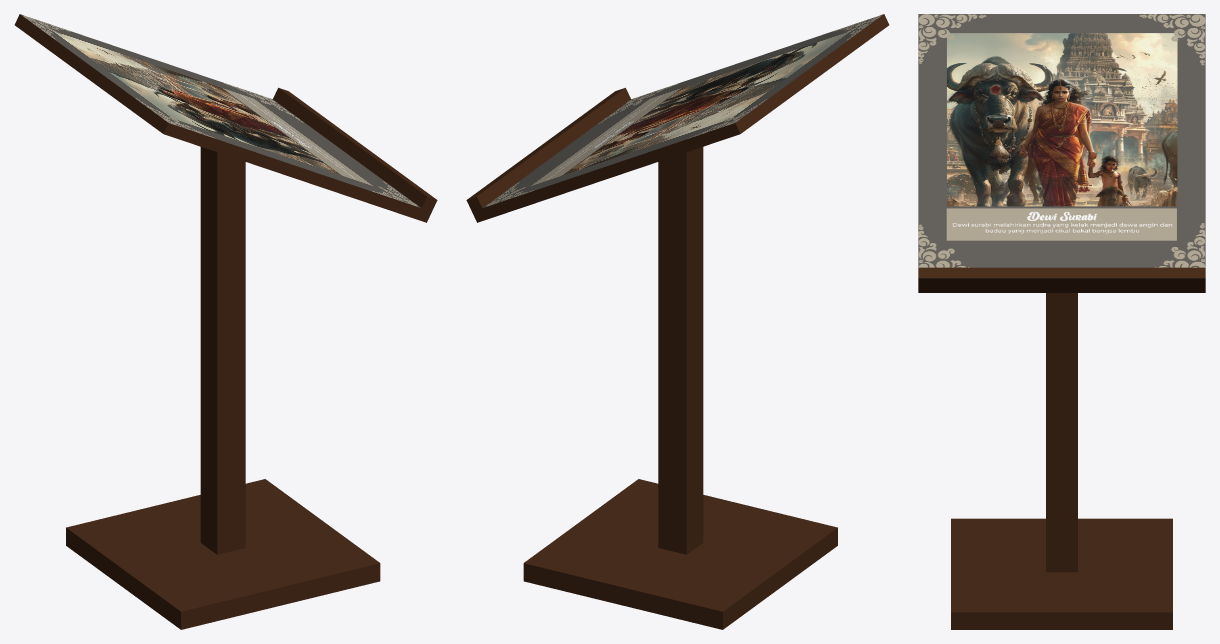
Rendered from Dewi Surabi.glb.
3 renders of one model, left to right at view 1: azimuth 30°, elevation 25°; view 2: azimuth 150°, elevation 25°; view 3: azimuth 270°, elevation 25°, orthographic. The views are drawn at different scales.
Visible parts, largest first — view 1: Cube.001, Cube.002, Cube; view 2: Cube.001, Cube.002, Cube; view 3: Cube.002, Cube.001, Cube.
Part boxes in pixels (x1,y1,x2,y2): Cube.001: (66,479,380,629); Cube.002: (14,14,437,222); Cube: (200,147,245,554); Cube.001: (523,479,837,629); Cube.002: (466,14,889,222); Cube: (658,147,703,554); Cube.002: (918,14,1205,292); Cube.001: (951,518,1172,629); Cube: (1046,293,1077,572).
Size of the model in its own units: 0.6504 by 1.19 by 0.6117.
2 materials, 1 textured.
